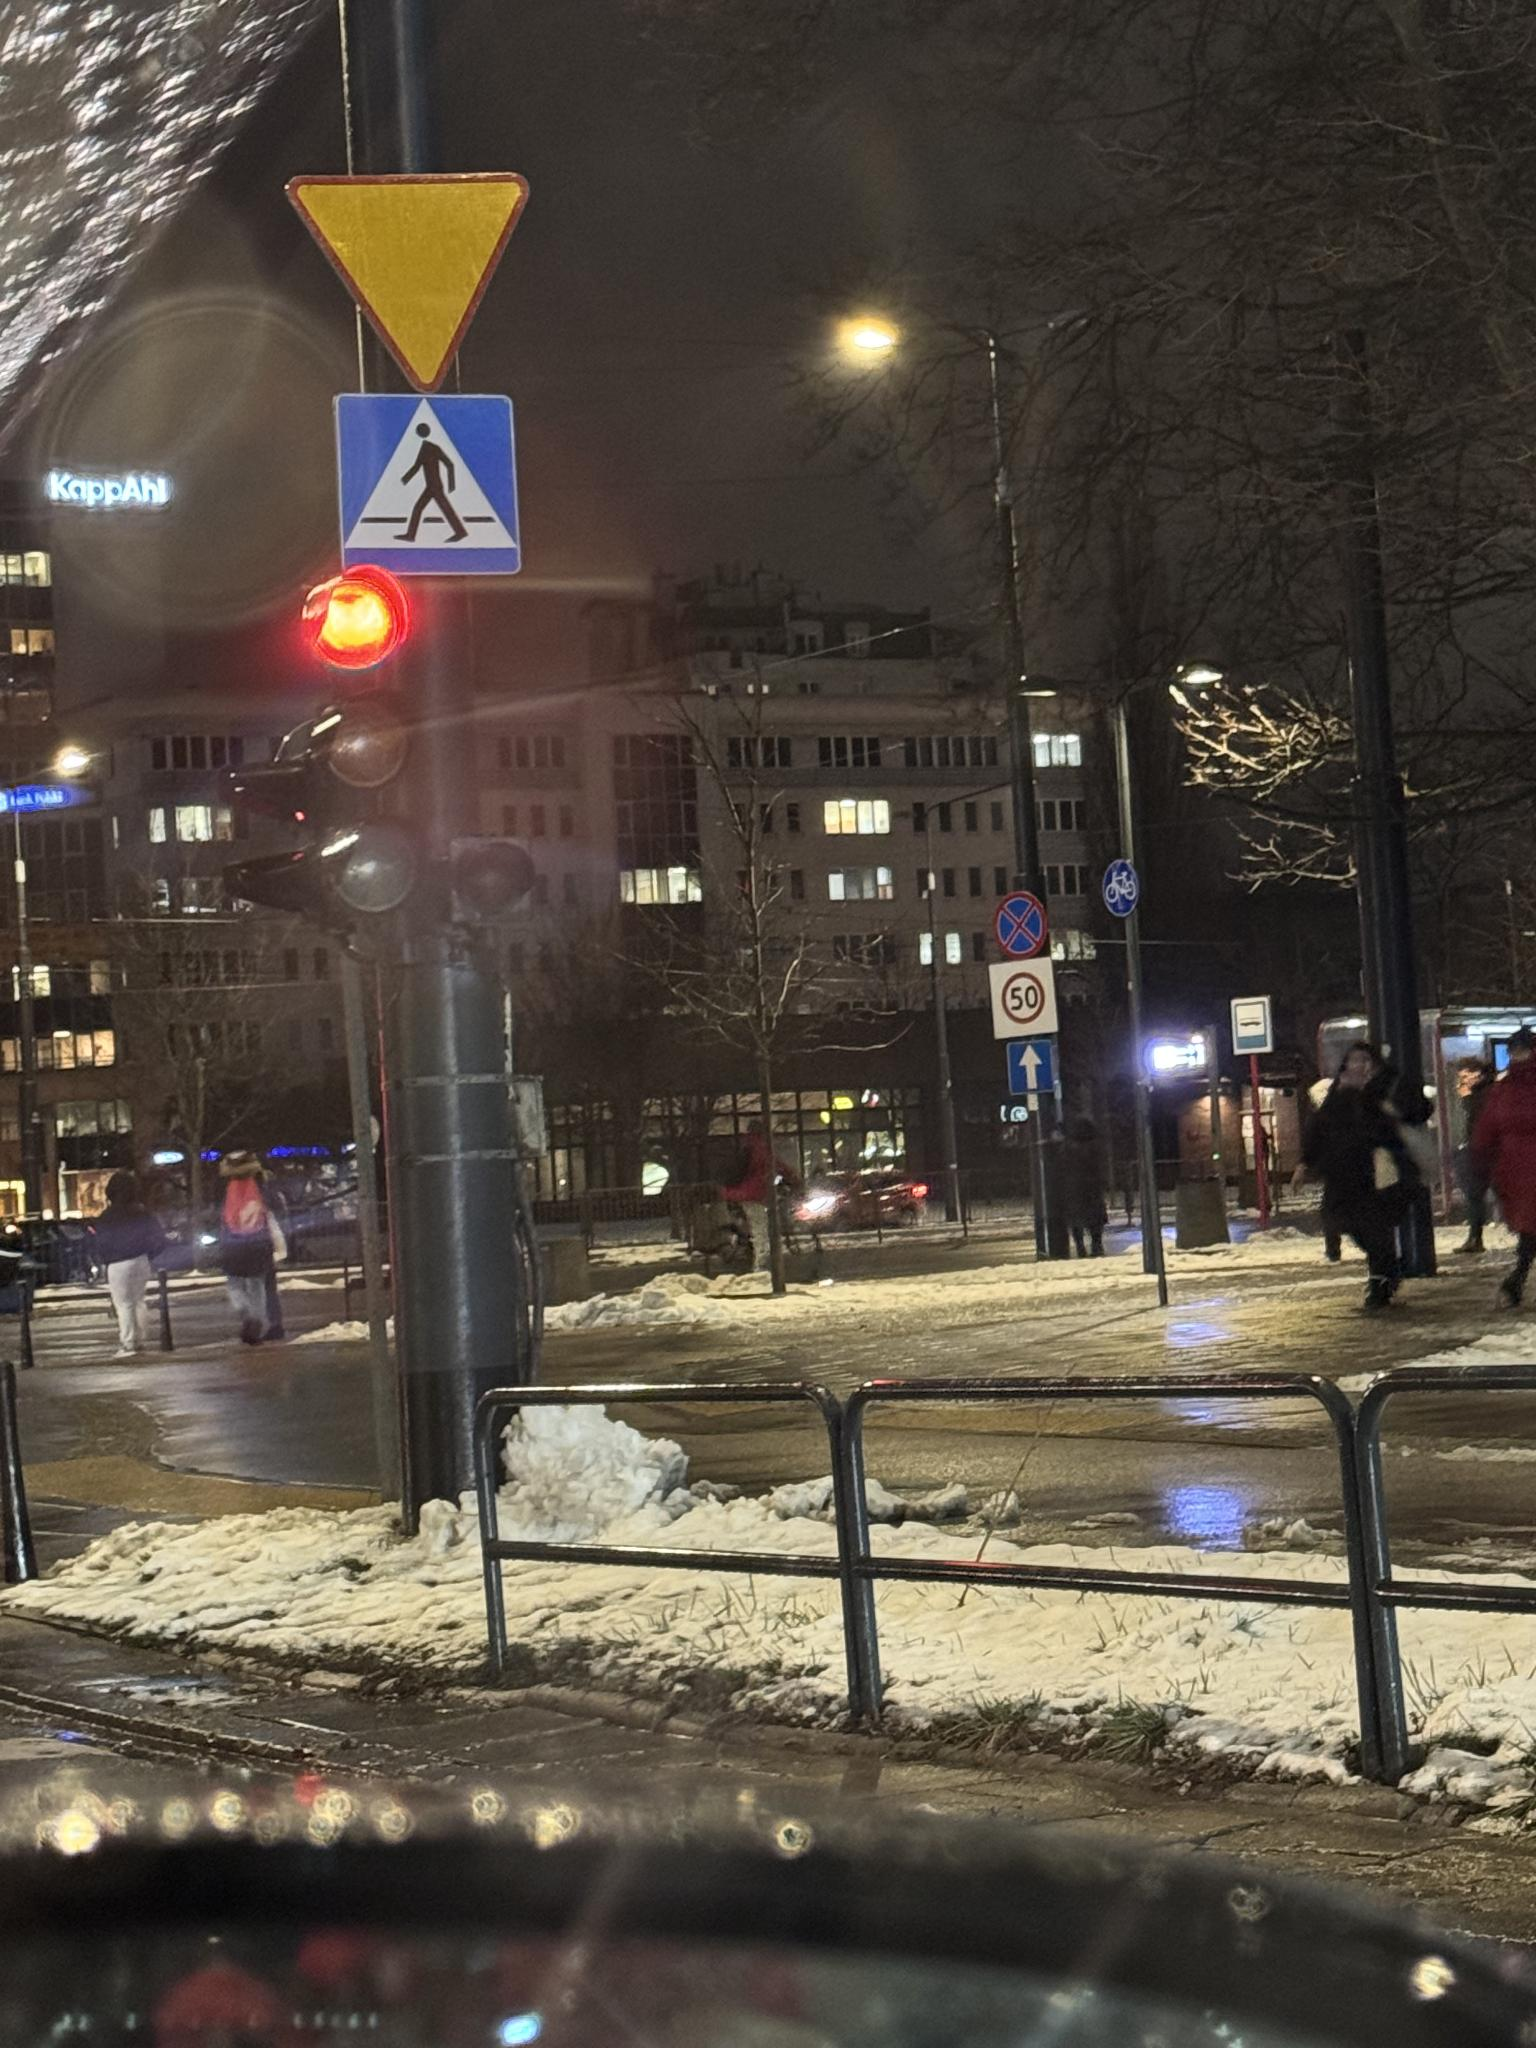information: (331, 387, 524, 576), (1007, 1040, 1057, 1092), (1236, 1000, 1268, 1050)
mandatory: (1102, 860, 1141, 918)
prohibitory: (992, 890, 1049, 961), (999, 971, 1049, 1026)
warning: (282, 171, 532, 395)
